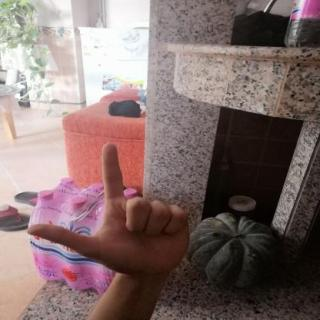LAAM: (14, 136, 201, 282)
